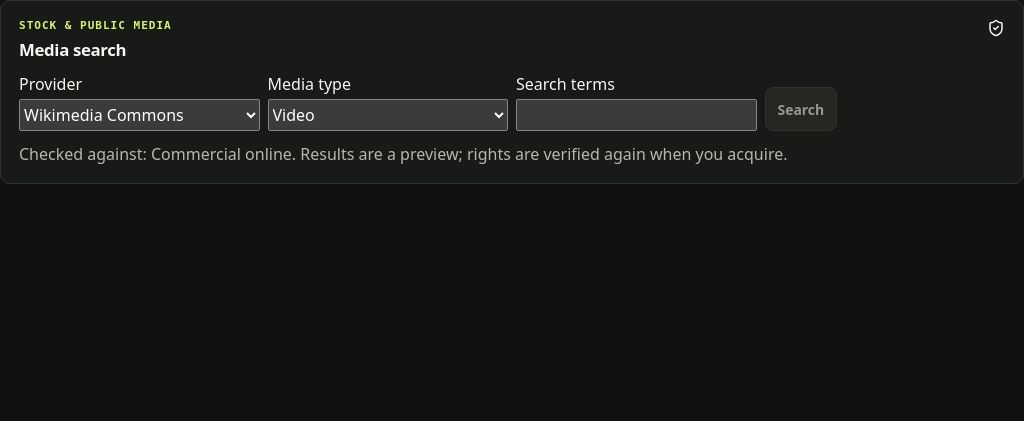
Test: RightsPanel › searches with the export's intended use and marks blocked candidates
Type "sunrise" into the search field labelled "Search terms". click: (636, 115)
box: left=516, top=99, right=756, bottom=131
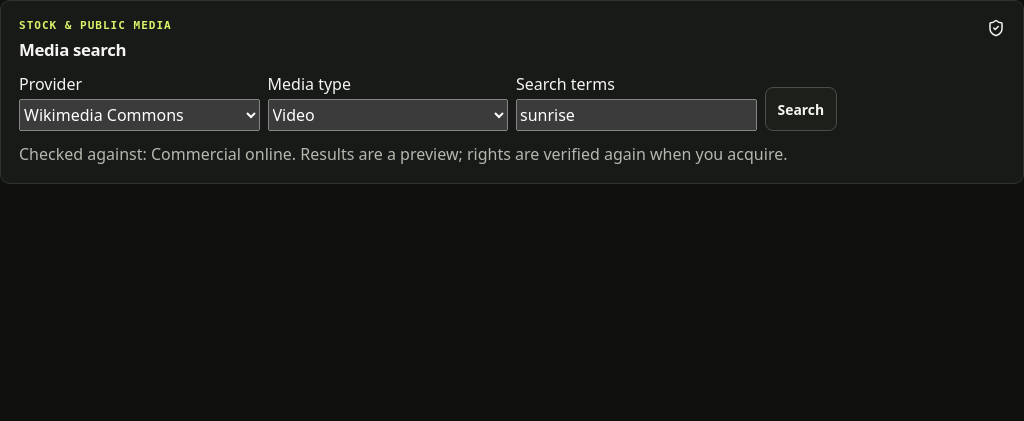
Click the button "Search". click: (801, 109)
box: left=764, top=87, right=837, bottom=131
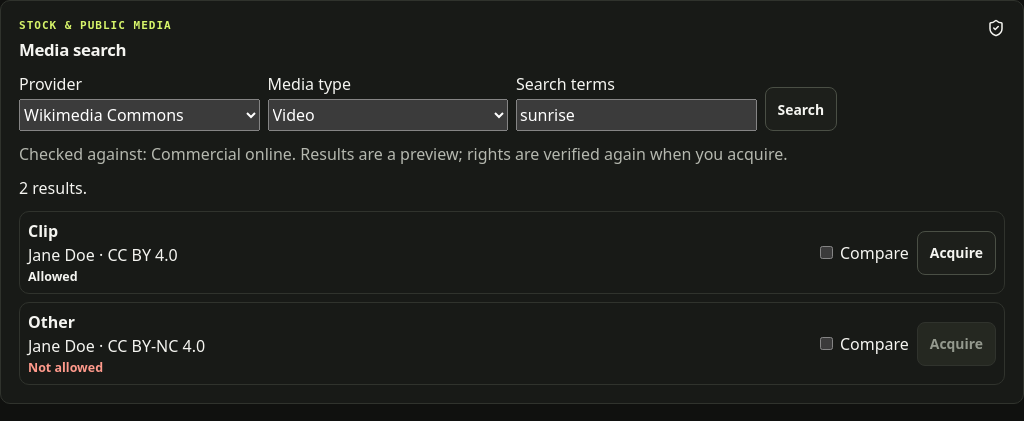
Expected: the list named "Search results" is shown, left=19, top=211, right=1005, bottom=385
Expected: the text "2 results." is shown, left=19, top=177, right=87, bottom=199
Expected: the button with aria-label "Acquire Other" is disabled, left=917, top=322, right=996, bottom=366
